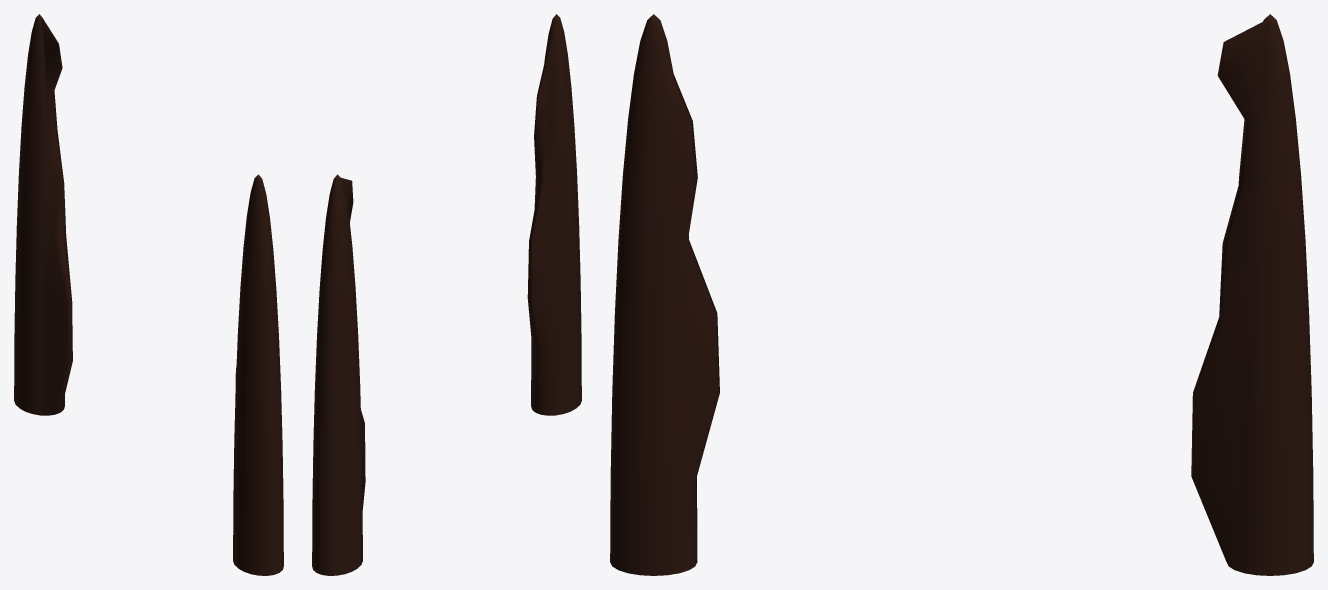
Rendered from NEW Nintendo Portaldsi XL Limited Edition for 3ds, Wii U and Nintendo Switch.fbx.
3 views of the same model, side by side, from view 1: azimuth 30°, elevation 25°; view 2: azimuth 150°, elevation 25°; view 3: azimuth 270°, elevation 25° (orthographic). The views are drawn at different scales.
Parts seen in each view (by area): view 1: pSphere2, pSphere1; view 2: pSphere1, pSphere2; view 3: pSphere2, pSphere1.
Boxes of the visible parts, x1,y1,x2,y2 form: pSphere2: [14, 14, 72, 415]; pSphere1: [233, 174, 283, 575]; pSphere1: [527, 14, 581, 415]; pSphere2: [312, 174, 365, 575]; pSphere2: [1191, 14, 1313, 575]; pSphere1: [610, 14, 719, 575].
Size of the model in its own units: 0.5603 by 5.17 by 6.02.
